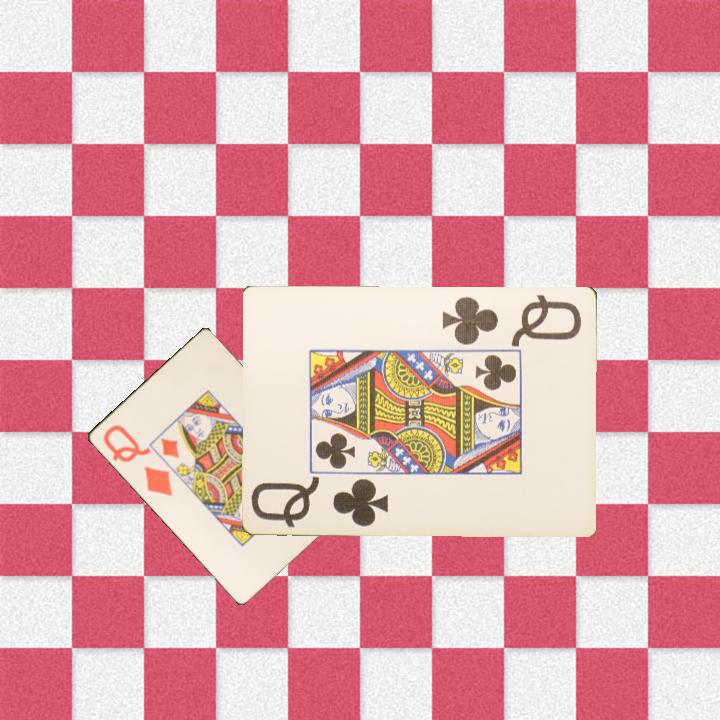Qc: (438, 290, 585, 347), (248, 474, 391, 530)
Qd: (99, 421, 175, 499)
